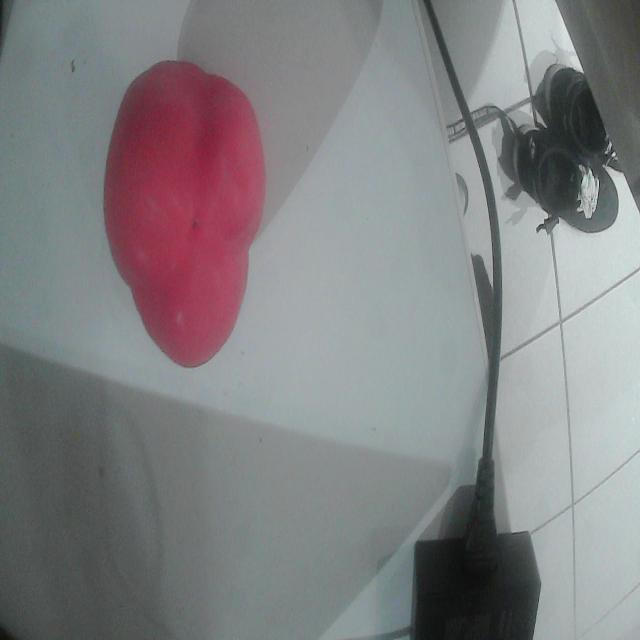Bell Pepper: (104, 61, 266, 367)
